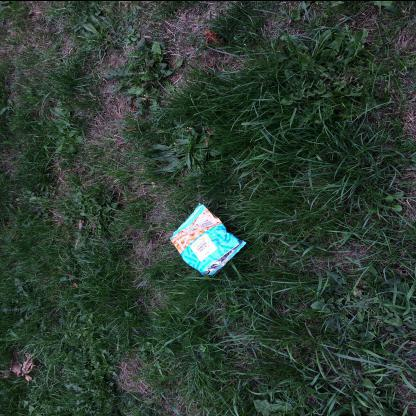plastik: (171, 204, 248, 276)
